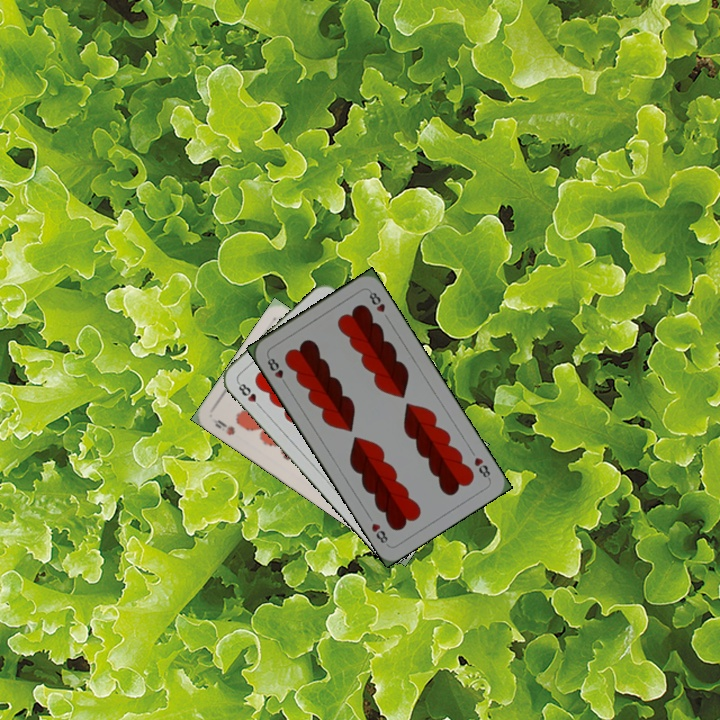H8: (234, 378, 265, 411), (263, 352, 290, 388), (470, 453, 493, 483)
H9: (211, 416, 238, 438)
